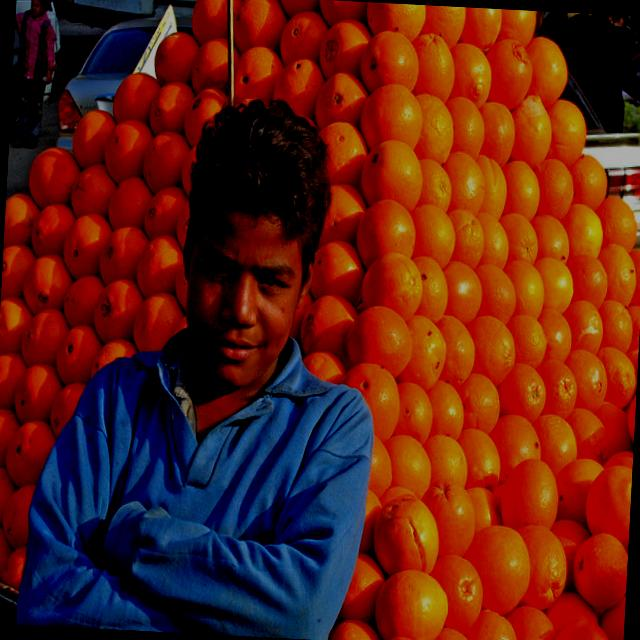Vehicle: (54, 11, 202, 162), (555, 66, 640, 242), (9, 0, 31, 139)
